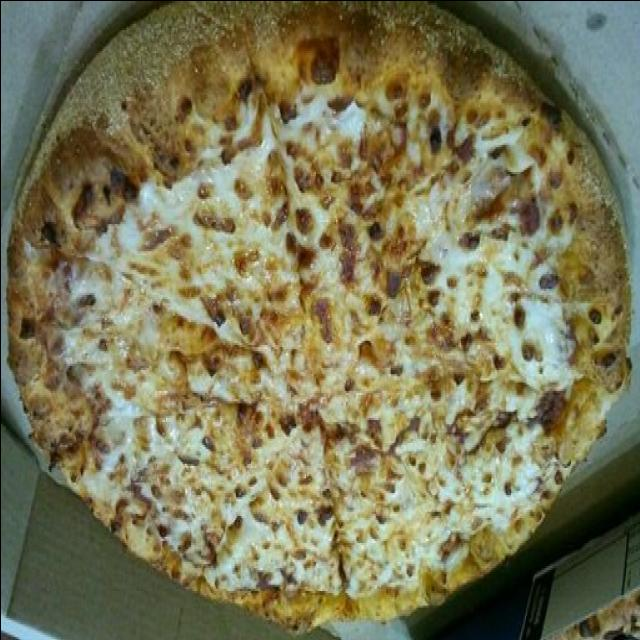pizza: (5, 0, 630, 634)
